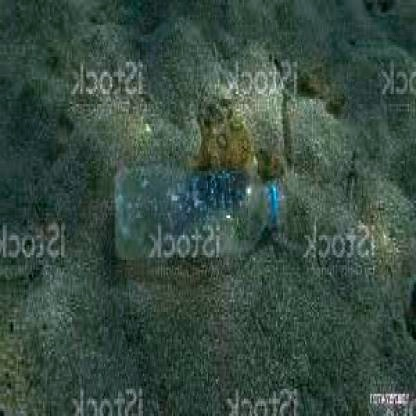pbottle: (105, 153, 286, 270)
